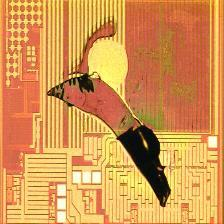BLOCK ETCH: (46, 17, 176, 211)
